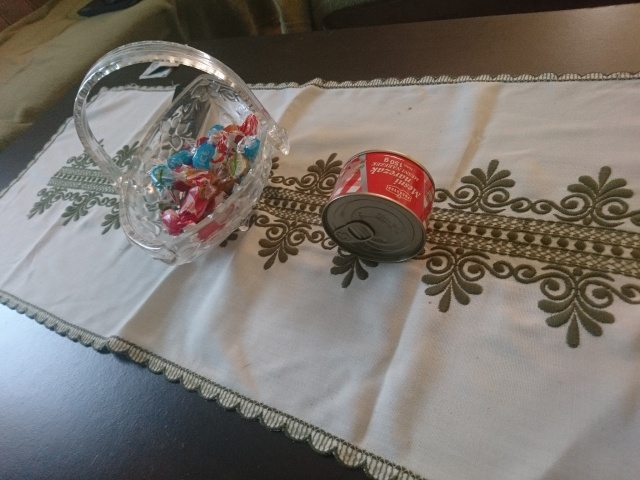Podravka Luncheon Meat 150g: (317, 146, 439, 266)
